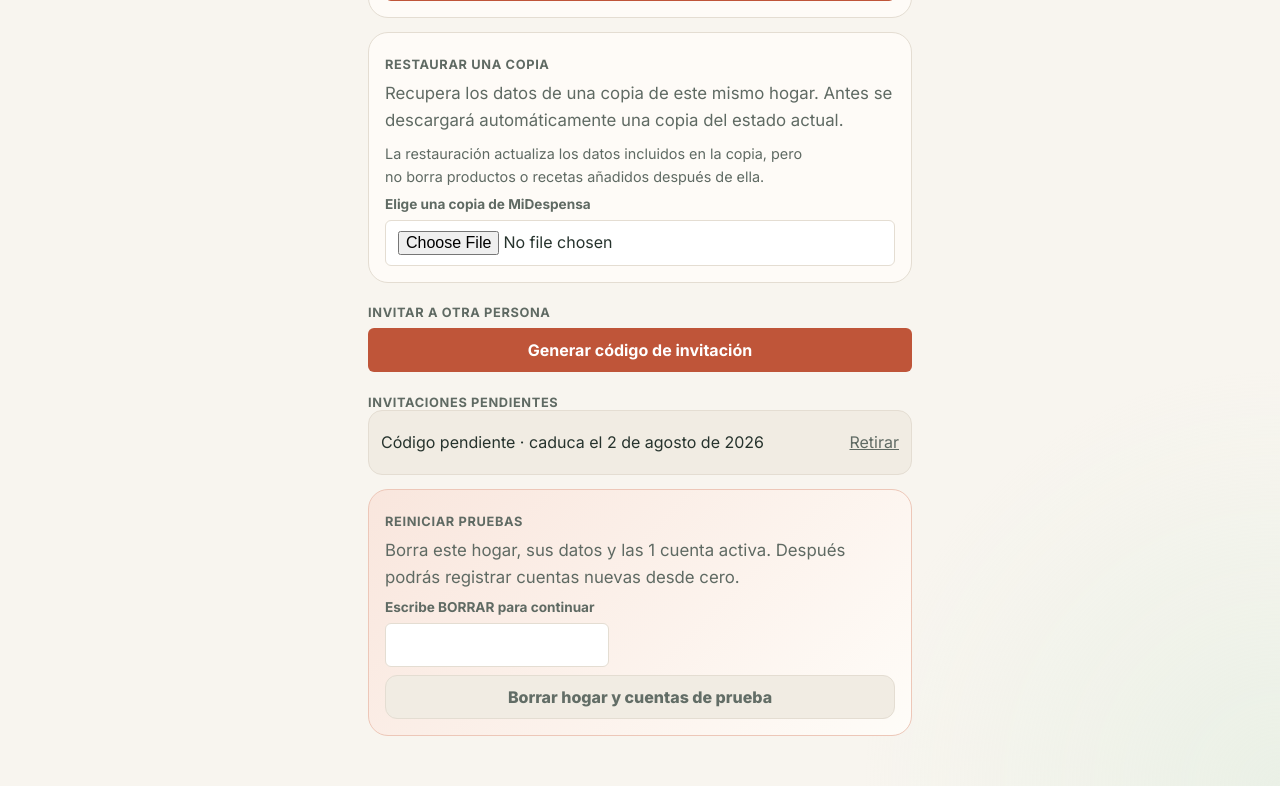
it: HouseholdManager › requires the explicit confirmation before enabling the pilot reset
The width and height of the screenshot is (1280, 786).
(page scrolled)
Type "BORRAR" into the field labelled "Escribe BORRAR para continuar" at (497,645), box [385,623,609,667]
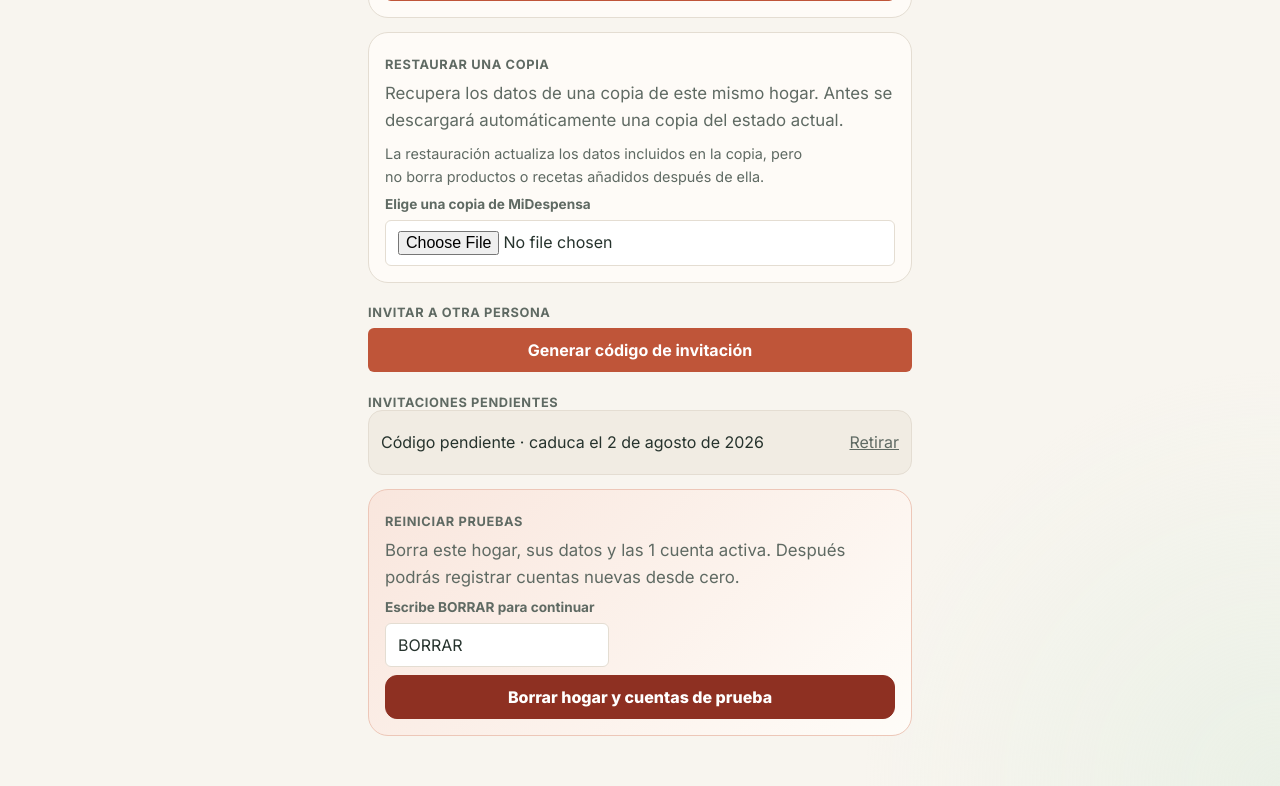
Now the button "Borrar hogar y cuentas de prueba" is enabled, box [385,675,895,719]
